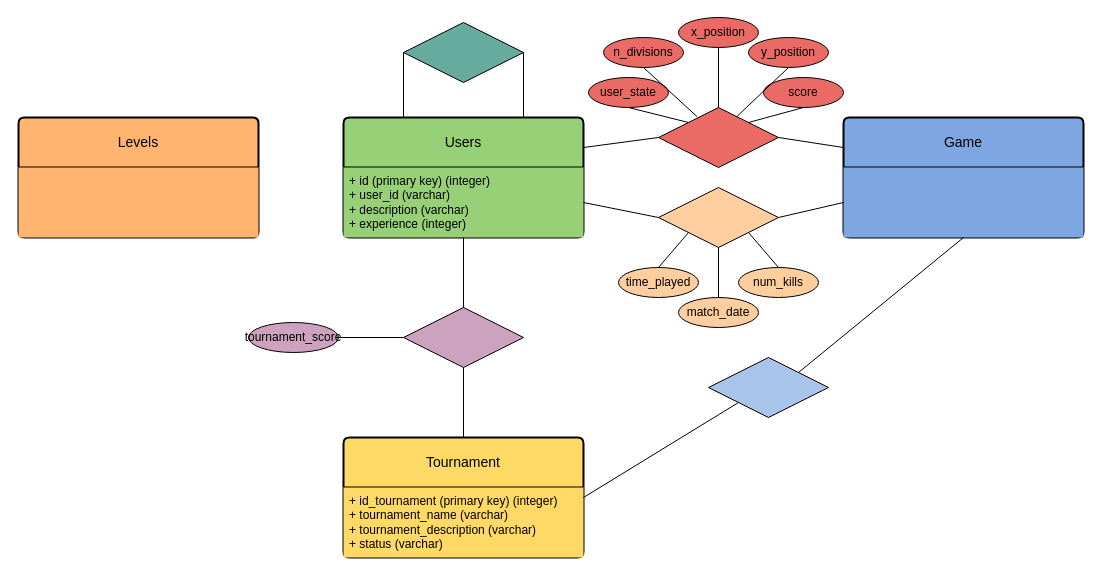
This 1101x576 diagram has some shape labels left out. The shapes that lost their labels are listed below. From the top down, each one's centre as x and y in pixels, then its label:
(x=463, y=52): Friends N : M
(x=718, y=137): Playing M : N
(x=138, y=202): + level_number (primary key) (integer) + experience_requiered (integer)
(x=718, y=217): Stats M : N
(x=963, y=202): + id_game (primary key) (integer) + match_state (varchar)
(x=463, y=337): Tournament_members N : M
(x=768, y=387): Tournament_games N : M
